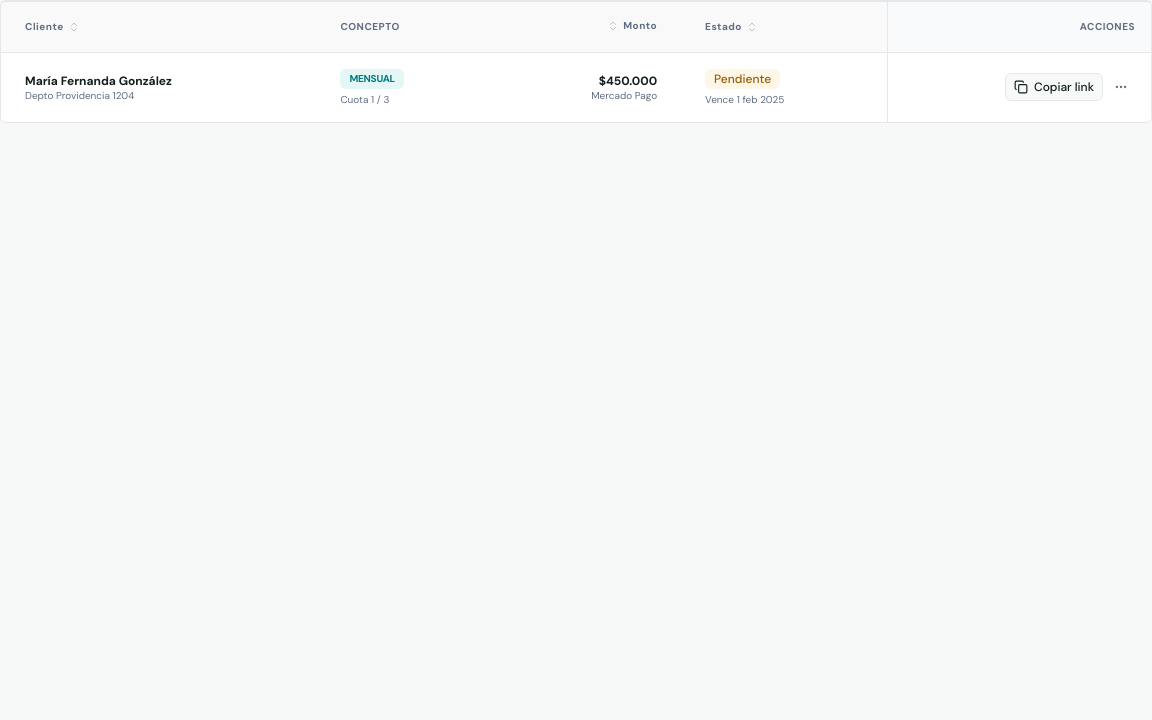
PaymentsTableClient - enviar link › ofrece los dos canales, no solo el portapapeles
Step 1. Click the button named "más acciones" → [1121, 87], box [1107,73,1135,101]
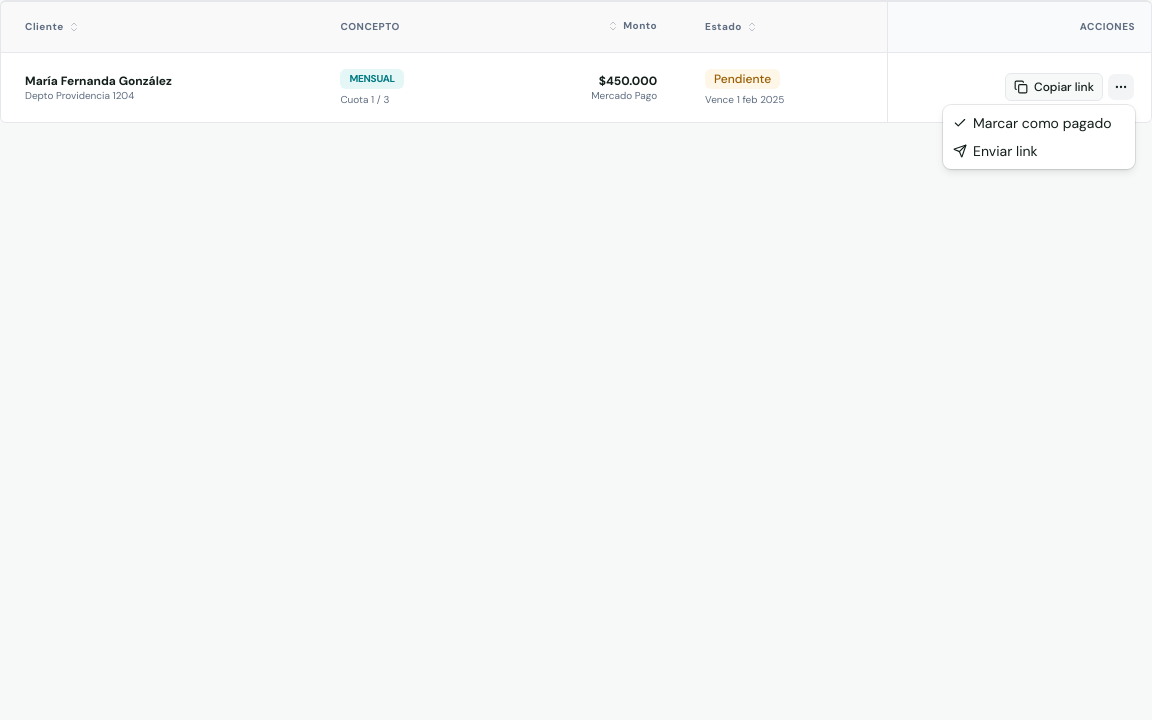
Step 2. Click the menu item "Enviar link" → [995, 151], box [953,142,1038,160]
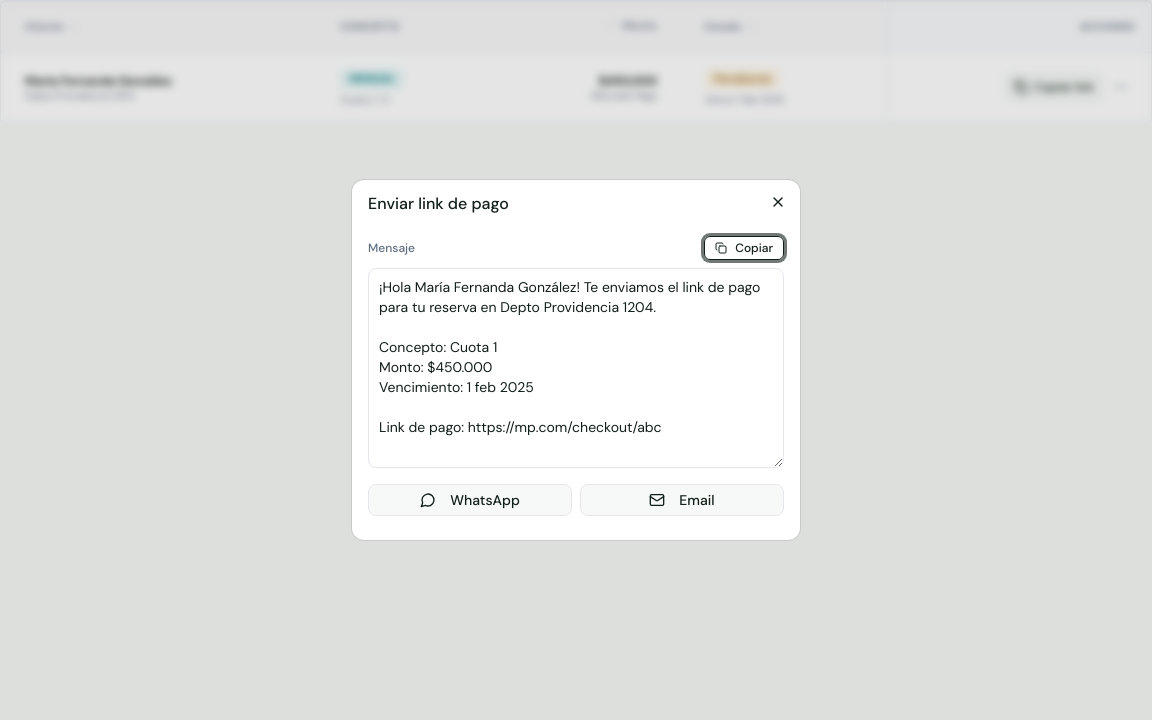
Expected: the button "WhatsApp" is shown, [368,484,572,516]
Expected: the button "Email" is shown, [580,484,784,516]
